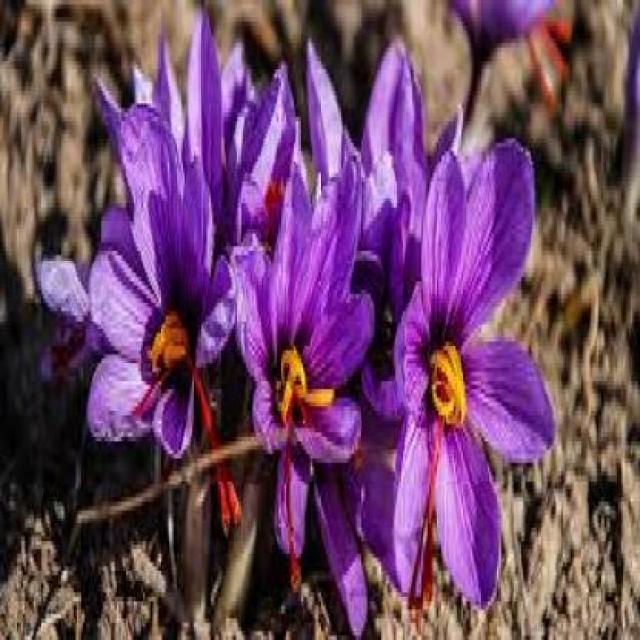saffron open: (392, 141, 554, 607), (231, 159, 372, 582), (89, 108, 234, 457), (452, 0, 550, 146)
